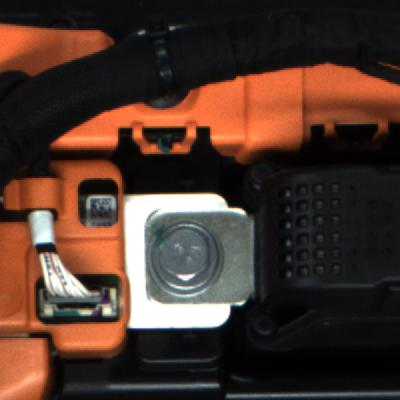nut_b: (142, 220, 229, 301)
